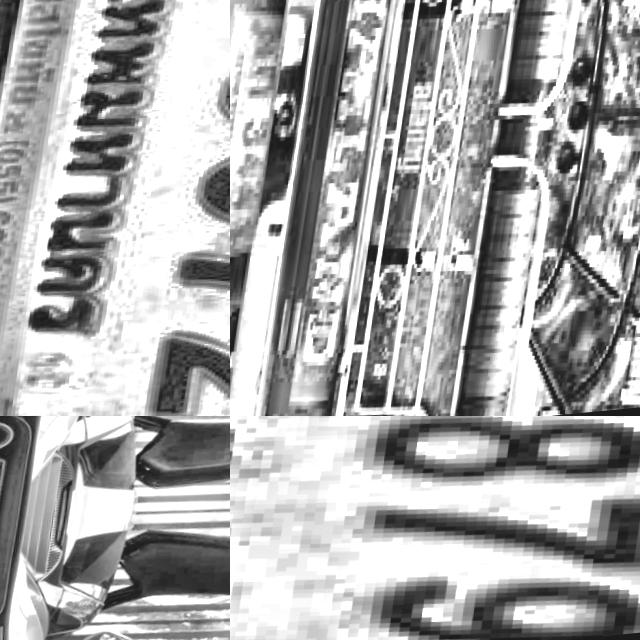license-plate: (0, 0, 230, 416), (230, 416, 640, 640), (230, 0, 298, 269)
